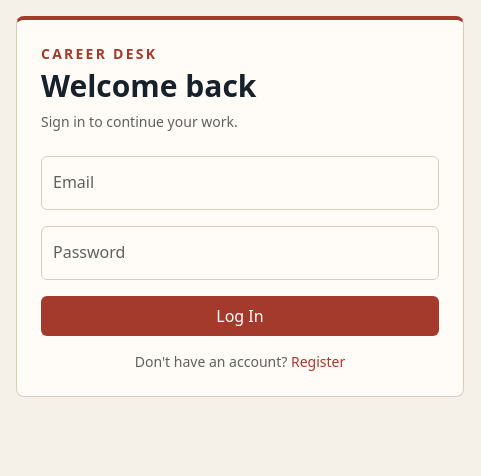
LoginPage › shows an error message and does not navigate on invalid credentials
Step 1. Type "user@test.com" into the field labelled "Email" → [240, 183], box [41,156,439,210]
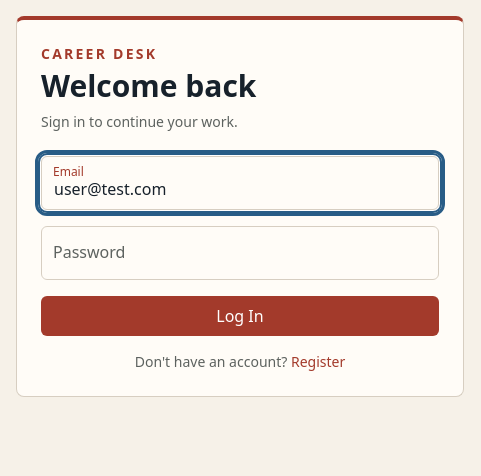
Step 2. Type "wrongpass" into the password field labelled "Password" → [240, 253], box [41,226,439,280]
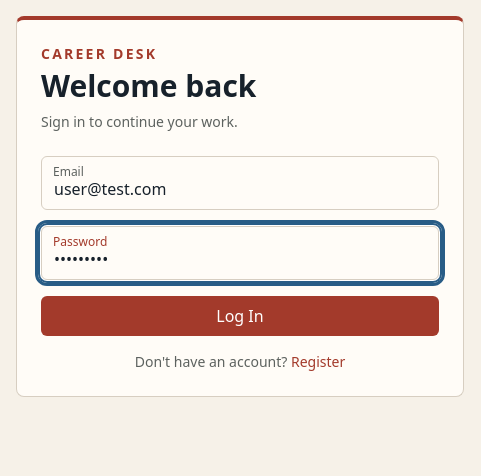
Step 3. Click the button "Log In" → [240, 316], box [41,296,439,336]
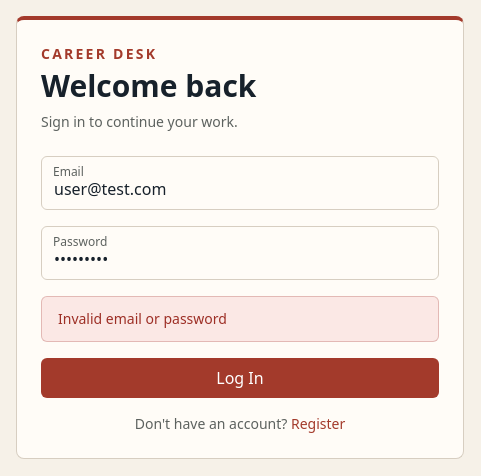
Expected: the text "Invalid email or password" is shown, [58,309,227,328]
